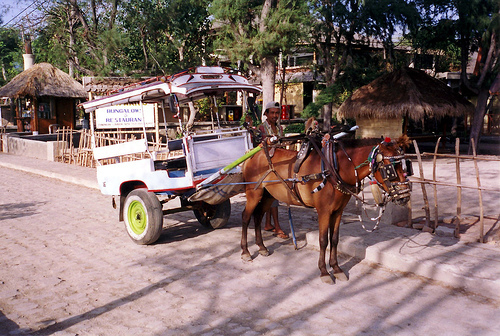horse: (237, 131, 413, 289)
